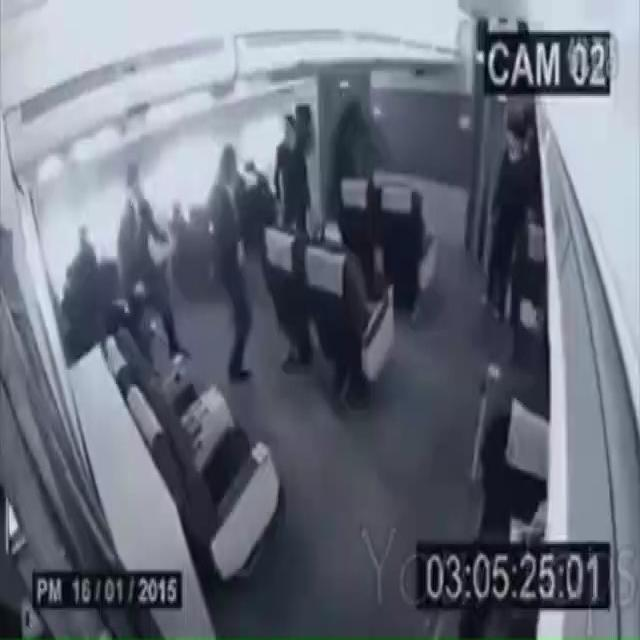fight: (186, 118, 328, 366)
